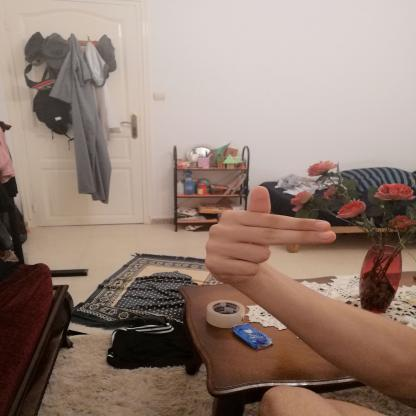GHAYN: (195, 178, 346, 290)
